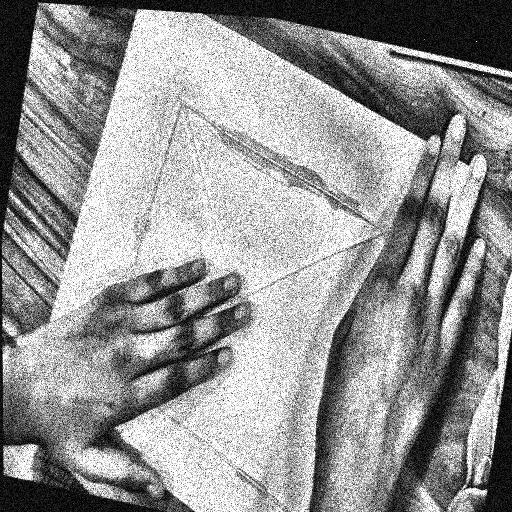bottom_left: (34, 365, 45, 383)
envelop: (73, 93, 428, 512)
top_right: (467, 162, 479, 178)
